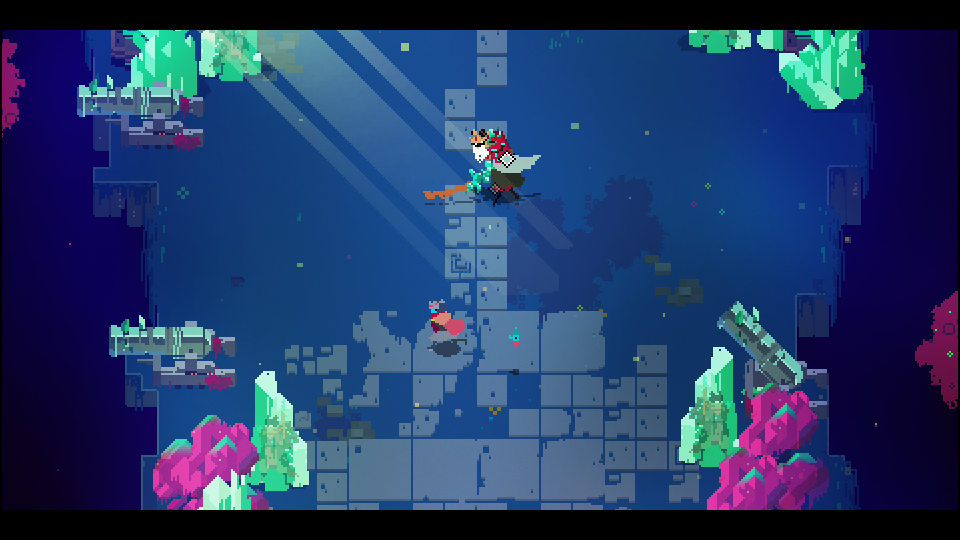hanged_man: (461, 124, 544, 211)
player: (421, 298, 468, 346)
